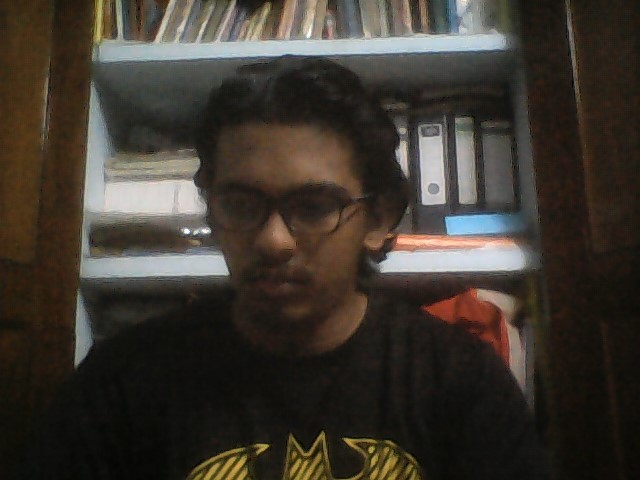person: (66, 55, 520, 469)
